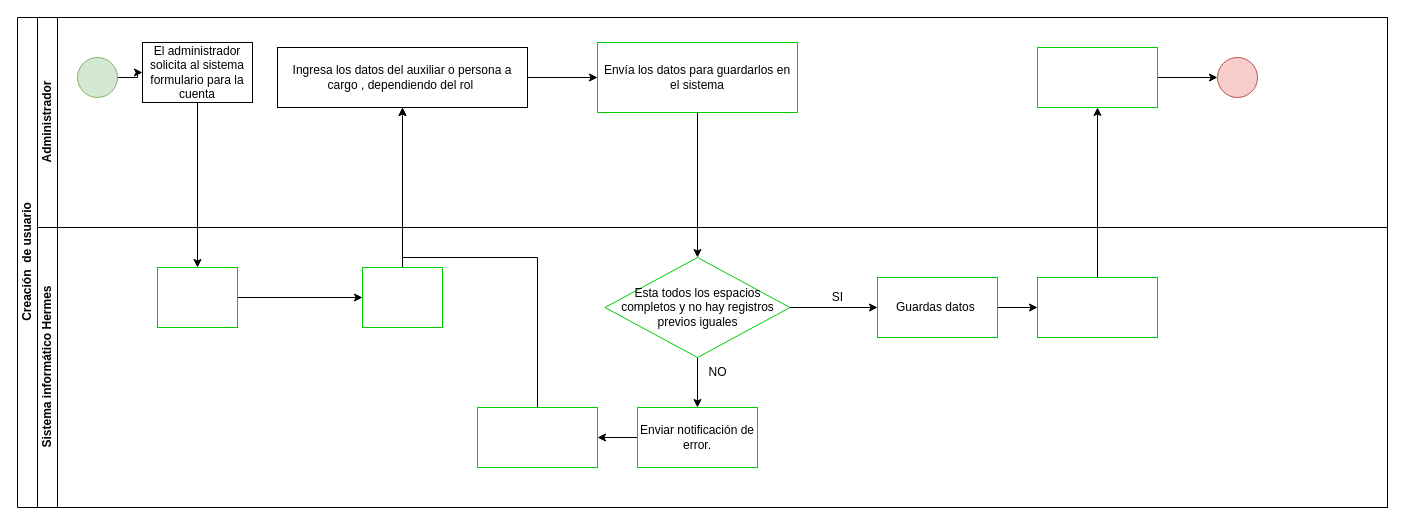
This 1405x525 diagram has some shape labels left out. Each missing label, with the centre of its shape:
Enviar notificación de datos guardados satisfactoriamente al administrador: [1097,307]
Envía el formulario y los requisitos: [402,297]
Pedir que verifique la información y los campos.: [537,437]
Procesa petición y crea el formulario: [197,297]
Recepción de notificación: [1097,77]
